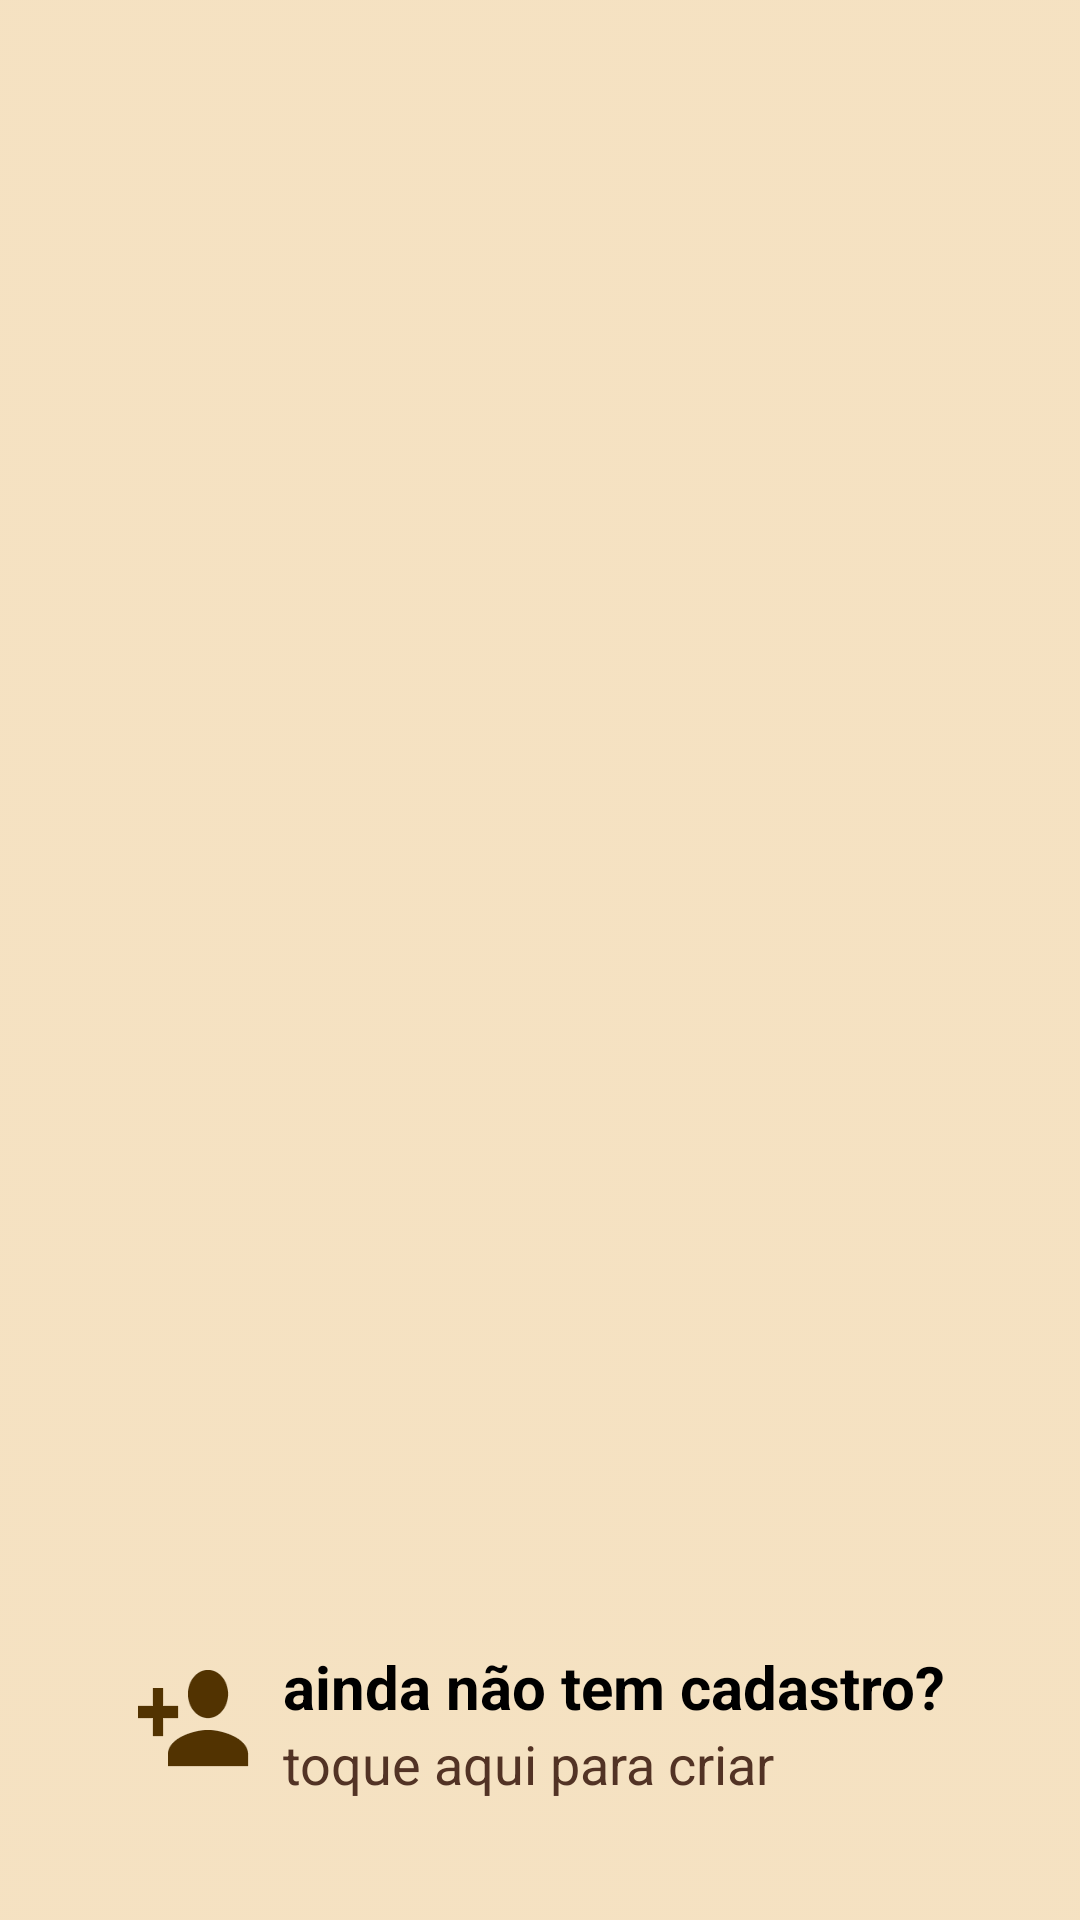

Point at icon controls on the screen. Image size 1080*1920, points as (x,y).
person add: (193,1718)
